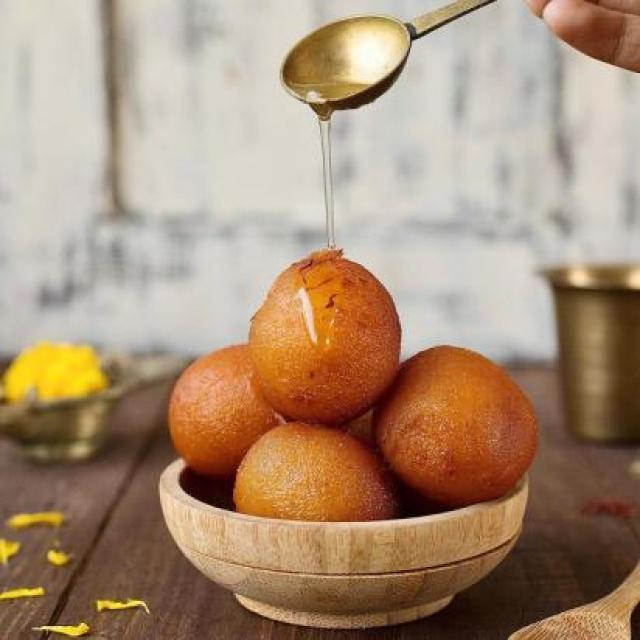gulab_jamun: (372, 342, 542, 505), (247, 248, 404, 422), (229, 417, 395, 521), (165, 339, 285, 476)
